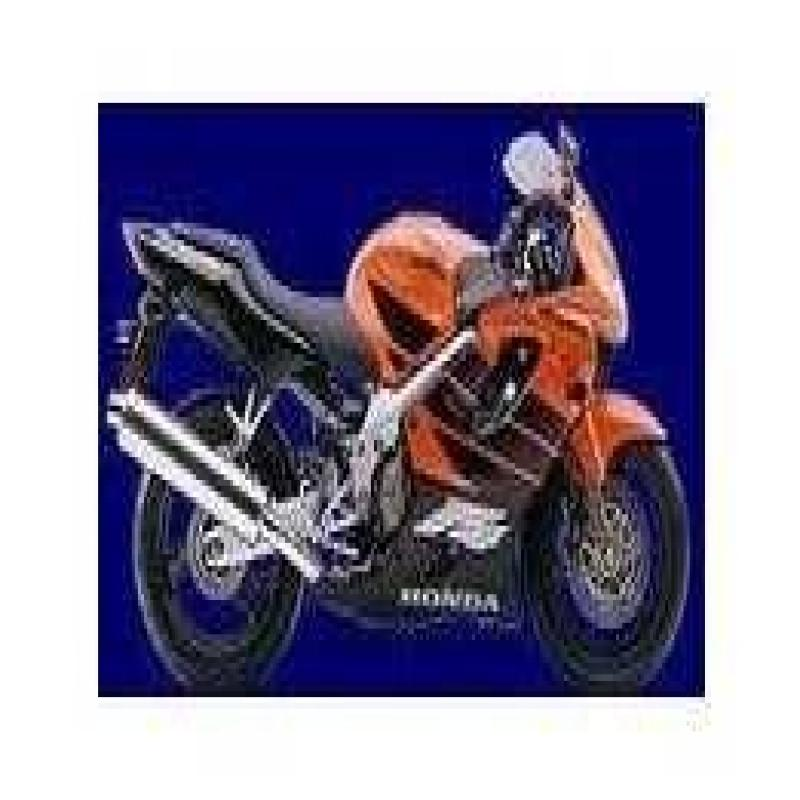bike: (115, 132, 700, 678)
